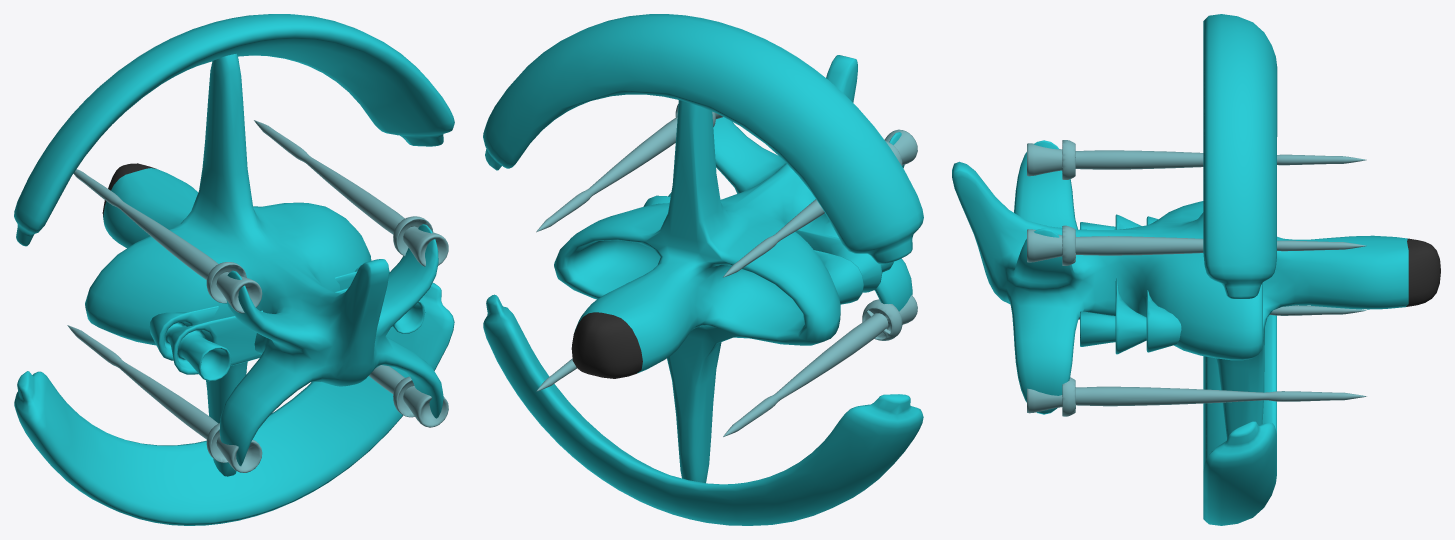
Rendered from Spaceship2.dae.
The picture shows the model from 3 angles, left to right: view 1: azimuth 30°, elevation 25°; view 2: azimuth 150°, elevation 25°; view 3: azimuth 270°, elevation 25°; orthographic projection. The views are drawn at different scales.
Parts seen in each view (by area): view 1: Cube; view 2: Cube; view 3: Cube.
Boxes of the visible parts, bbox=[...] form: Cube: bbox=[14, 14, 454, 525]; Cube: bbox=[483, 14, 923, 525]; Cube: bbox=[952, 14, 1440, 525].
Bounding box in the file's own units: 6.15 × 6.46 × 6.76.
